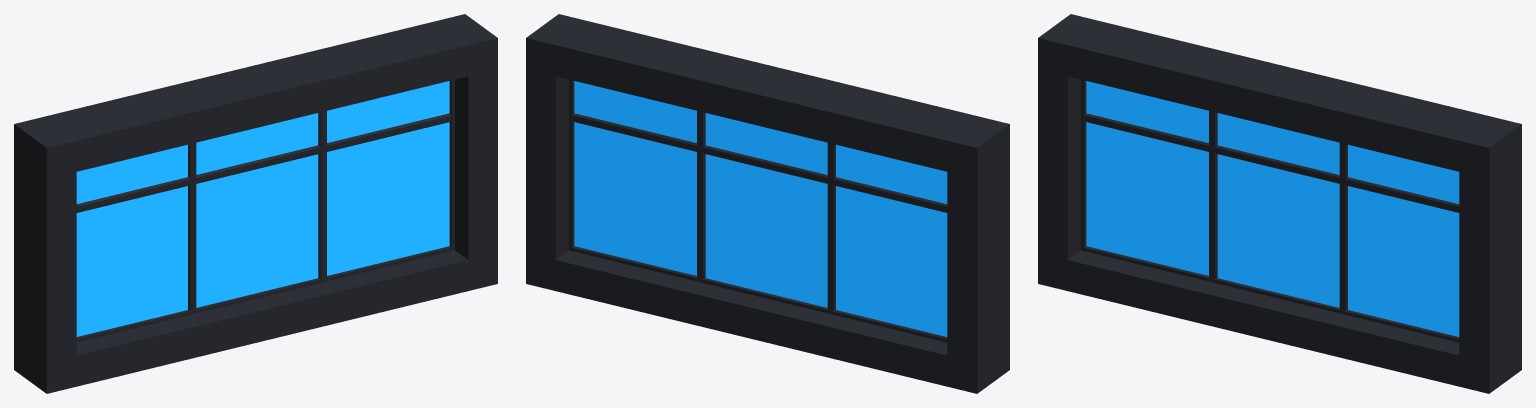
File: janela_larga_bandeira_preta.glb
The picture shows the model from 3 angles, left to right: view 1: azimuth 30°, elevation 25°; view 2: azimuth 150°, elevation 25°; view 3: azimuth 330°, elevation 25°; orthographic projection.
Parts seen in each view (by area): view 1: janela_larga_bandeira_preta; view 2: janela_larga_bandeira_preta; view 3: janela_larga_bandeira_preta.
Boxes of the visible parts, bbox=[...] form: janela_larga_bandeira_preta: bbox=[14, 14, 497, 393]; janela_larga_bandeira_preta: bbox=[526, 14, 1009, 393]; janela_larga_bandeira_preta: bbox=[1038, 14, 1521, 393].
Bounding box in the file's own units: 1.67 × 0.87 × 0.21.
